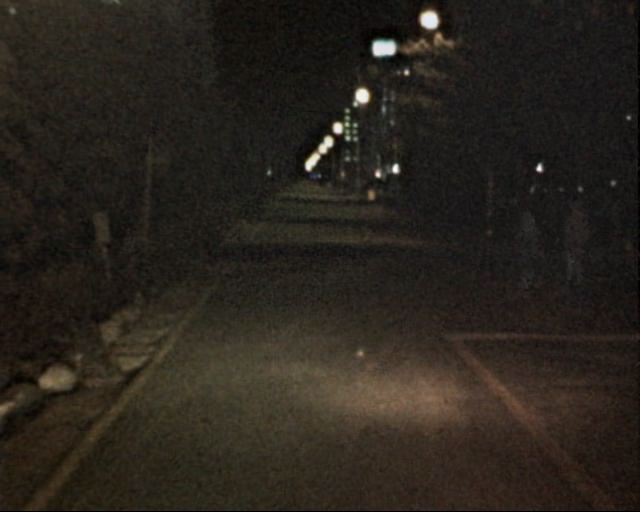person: (552, 197, 595, 303), (508, 207, 545, 298)
